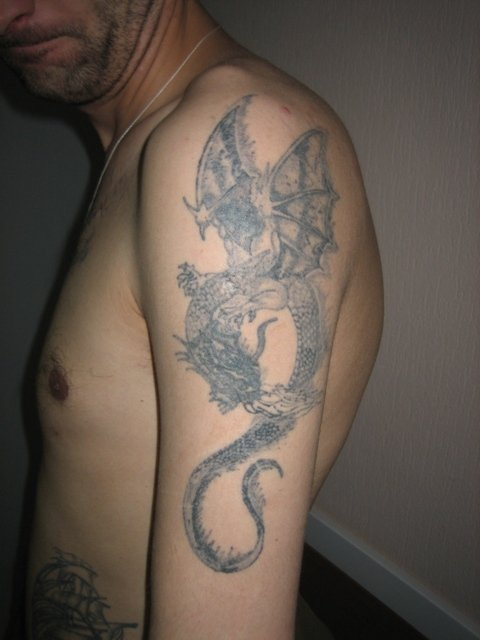tatu6_drakon: (136, 77, 356, 589)
